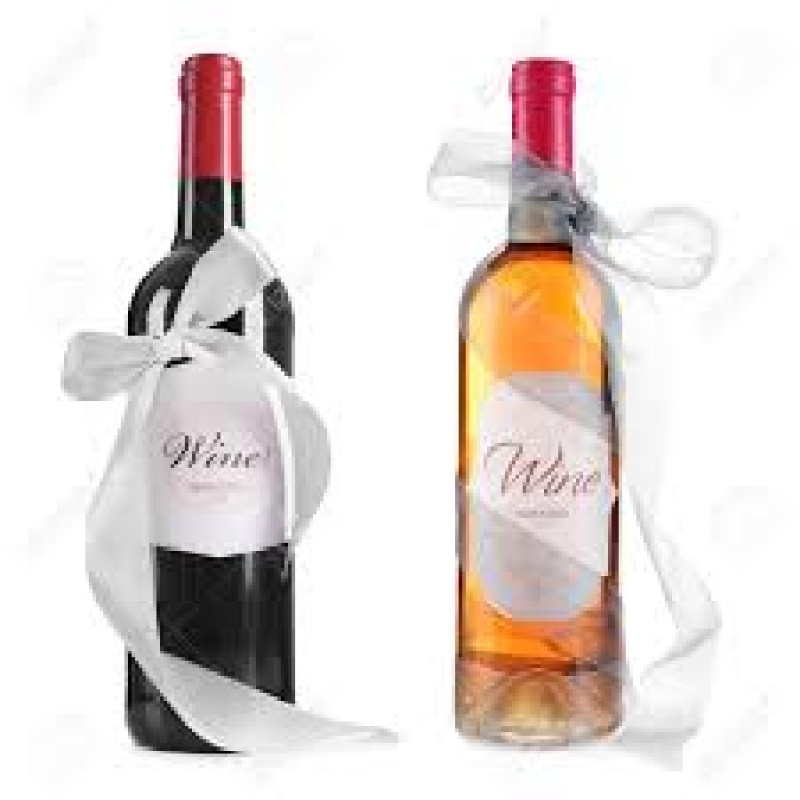wine: (127, 54, 306, 747), (467, 63, 625, 748)
